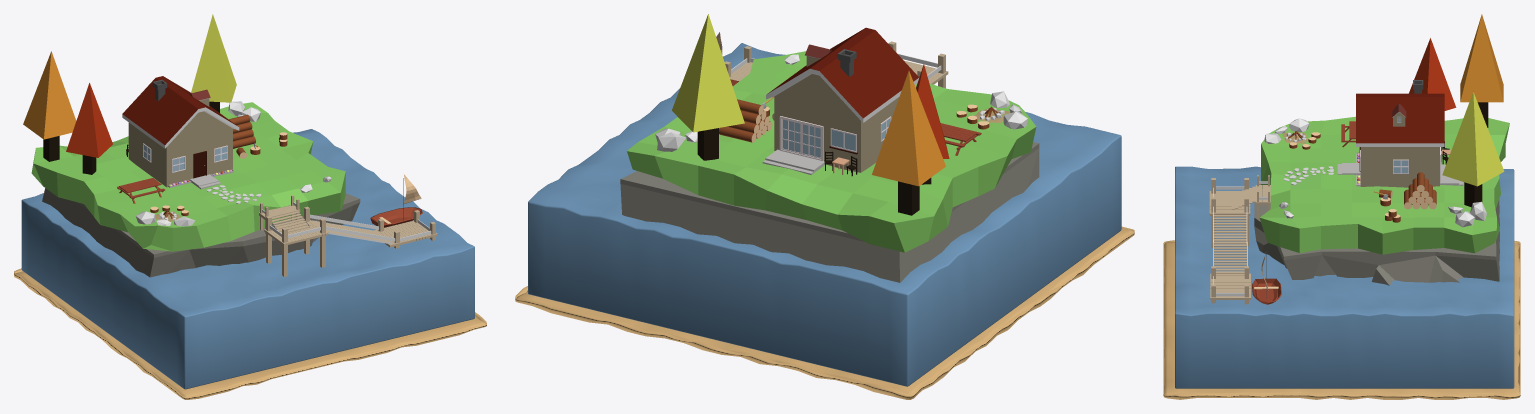
File: house.glb
3 views of the same model, side by side, from view 1: azimuth 30°, elevation 25°; view 2: azimuth 150°, elevation 25°; view 3: azimuth 270°, elevation 25° (orthographic). The views are drawn at different scales.
Visible parts, largest first — view 1: water.001, grass.001, the house.001, rock.001, Cube.033, big tree 2.001, big tree 3, big tree 1, d3 floor, d2 floor, boat.001, d1 staircase (+1 smaller); view 2: water.001, grass.001, rock.001, the house.001, Cube.033, big tree 3, big tree 2.001, backdoor.001, big tree 1, stair1.001; view 3: water.001, grass.001, the house.001, rock.001, Cube.033, big tree 3, big tree 2.001, d2 stairs, big tree 1, d3 floor, d2 floor, boat.001 (+1 smaller).
Part boxes in pixels (<box>): water.001: <box>21,129,474,389</box>; grass.001: <box>31,102,345,251</box>; the house.001: <box>122,76,239,187</box>; rock.001: <box>42,188,360,277</box>; Cube.033: <box>14,268,486,399</box>; big tree 2.001: <box>23,51,76,161</box>; big tree 3: <box>191,14,236,112</box>; big tree 1: <box>66,83,112,174</box>; d3 floor: <box>374,220,437,247</box>; d2 floor: <box>264,220,328,245</box>; boat.001: <box>370,207,422,227</box>; d1 staircase: <box>272,211,309,233</box>; water.001: <box>528,43,1121,386</box>; grass.001: <box>627,51,1036,252</box>; rock.001: <box>620,142,1039,282</box>; the house.001: <box>766,27,919,172</box>; Cube.033: <box>515,226,1134,399</box>; big tree 3: <box>672,14,744,160</box>; big tree 2.001: <box>872,71,945,215</box>; backdoor.001: <box>779,116,823,160</box>; big tree 1: <box>916,64,949,184</box>; stair1.001: <box>765,149,824,171</box>; water.001: <box>1175,166,1514,388</box>; grass.001: <box>1259,116,1509,254</box>; the house.001: <box>1356,93,1444,187</box>; rock.001: <box>1254,184,1499,285</box>; Cube.033: <box>1163,240,1520,399</box>; big tree 3: <box>1442,92,1504,207</box>; big tree 2.001: <box>1460,14,1503,127</box>; d2 stairs: <box>1213,215,1246,275</box>; big tree 1: <box>1409,38,1456,110</box>; d3 floor: <box>1210,273,1250,299</box>; d2 floor: <box>1209,191,1250,215</box>; boat.001: <box>1252,278,1281,304</box>.
Size of the model in its own units: 8.11 by 6 by 7.96.
